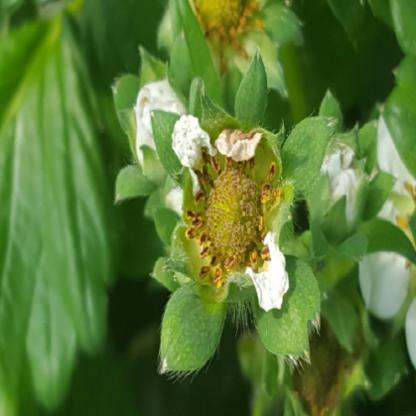Strawberry_Blossom_Blight: (184, 145, 286, 292)
